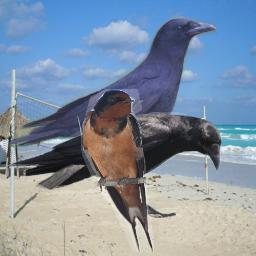Crow: (7, 16, 216, 185), (7, 112, 222, 218)
Swallow: (81, 89, 154, 253)
